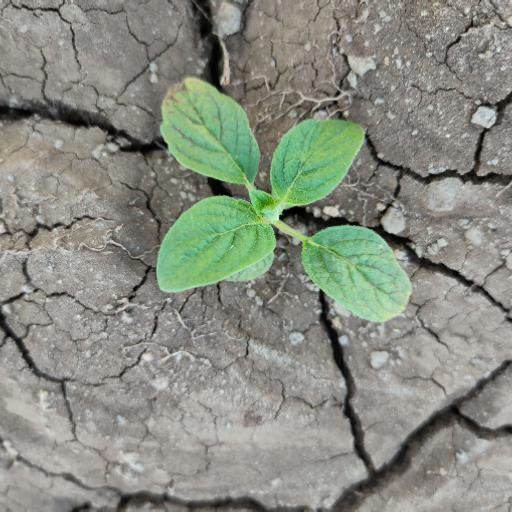crop: (144, 74, 421, 352)
